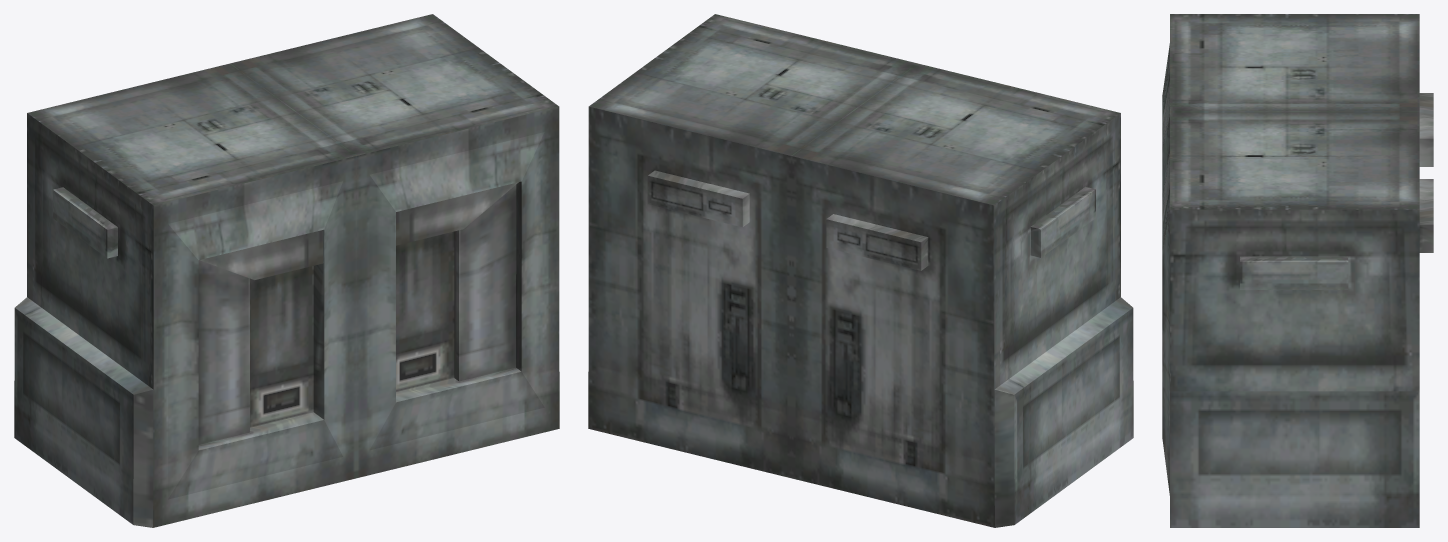
File: cargo_freighter_crate_s02_l1.fbx
The picture shows the model from 3 angles, left to right: view 1: azimuth 30°, elevation 25°; view 2: azimuth 150°, elevation 25°; view 3: azimuth 270°, elevation 25°; orthographic projection.
Visible parts, largest first — view 1: mesh_node; view 2: mesh_node; view 3: mesh_node.
Boxes of the visible parts, bbox=[...] form: mesh_node: bbox=[14, 14, 559, 527]; mesh_node: bbox=[588, 14, 1133, 527]; mesh_node: bbox=[1162, 14, 1433, 527].
Size of the model in its own units: 24.92 by 17.73 by 13.69.
